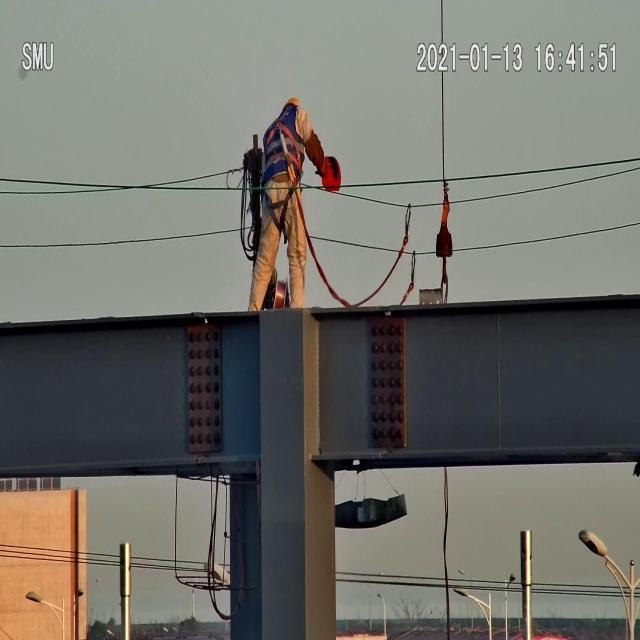Arnes_seguridad: (262, 104, 304, 211)
